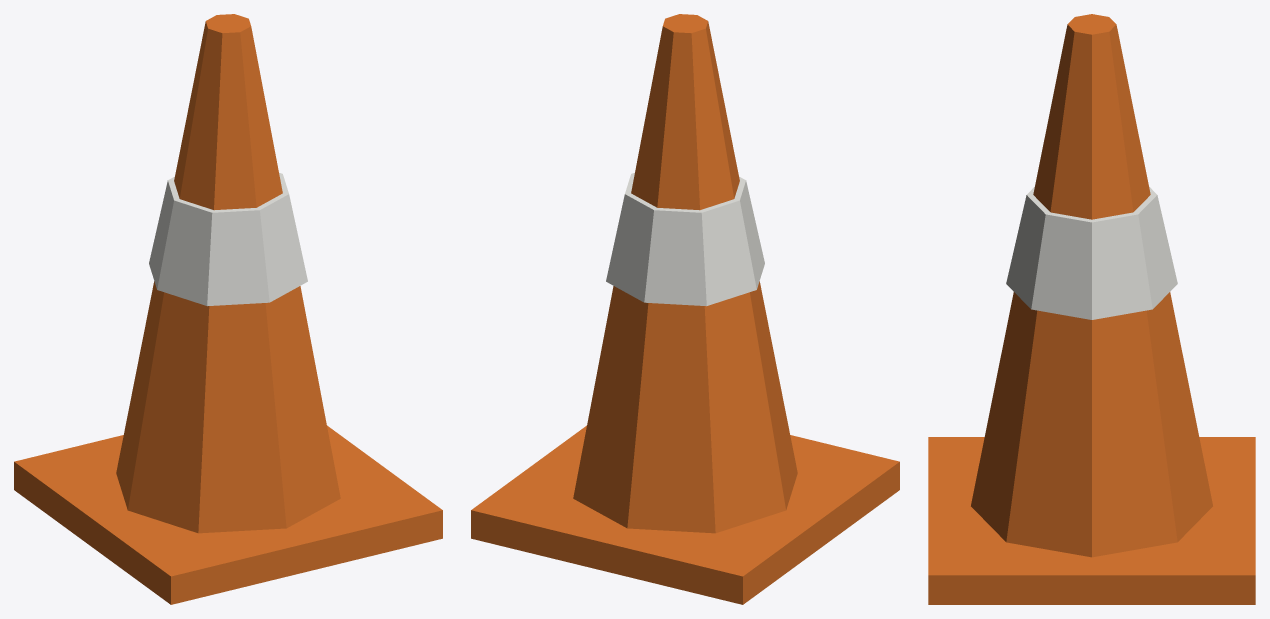
The picture shows the model from 3 angles, left to right: view 1: azimuth 30°, elevation 25°; view 2: azimuth 150°, elevation 25°; view 3: azimuth 270°, elevation 25°; orthographic projection. The views are drawn at different scales.
Visible parts, largest first — view 1: cone_Body; view 2: cone_Body; view 3: cone_Body.
Boxes of the visible parts, box(x1,y1,x2,y2) form: cone_Body: box(14, 14, 442, 604); cone_Body: box(471, 14, 899, 604); cone_Body: box(928, 14, 1255, 604).
Bounding box in the file's own units: 0.4 × 0.69 × 0.4.
